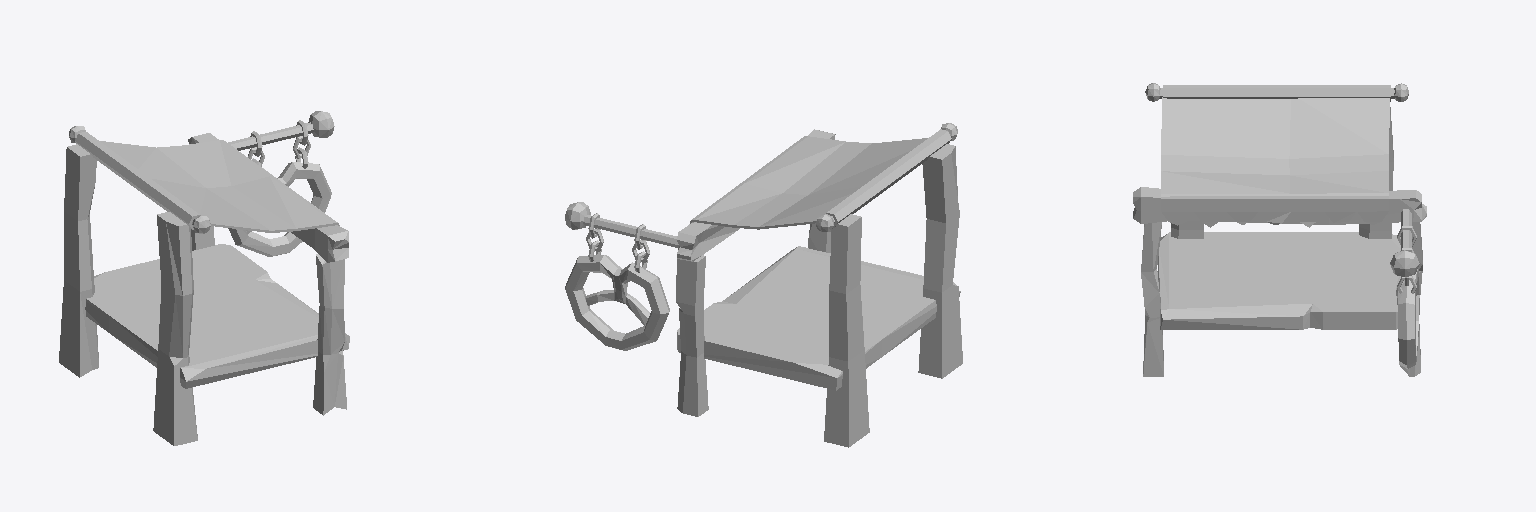
Rendered from tent02.obj.
The picture shows the model from 3 angles: view 1: azimuth 30°, elevation 25°; view 2: azimuth 150°, elevation 25°; view 3: azimuth 270°, elevation 25°; orthographic projection.
Visible parts, largest first — view 1: tent02; view 2: tent02; view 3: tent02.
Boxes of the visible parts, box(x1,y1,x2,y2) form: tent02: box(59, 111, 349, 445); tent02: box(565, 123, 962, 447); tent02: box(1133, 83, 1426, 376).
Bounding box in the file's own units: 0.0374 × 0.0297 × 0.0342.